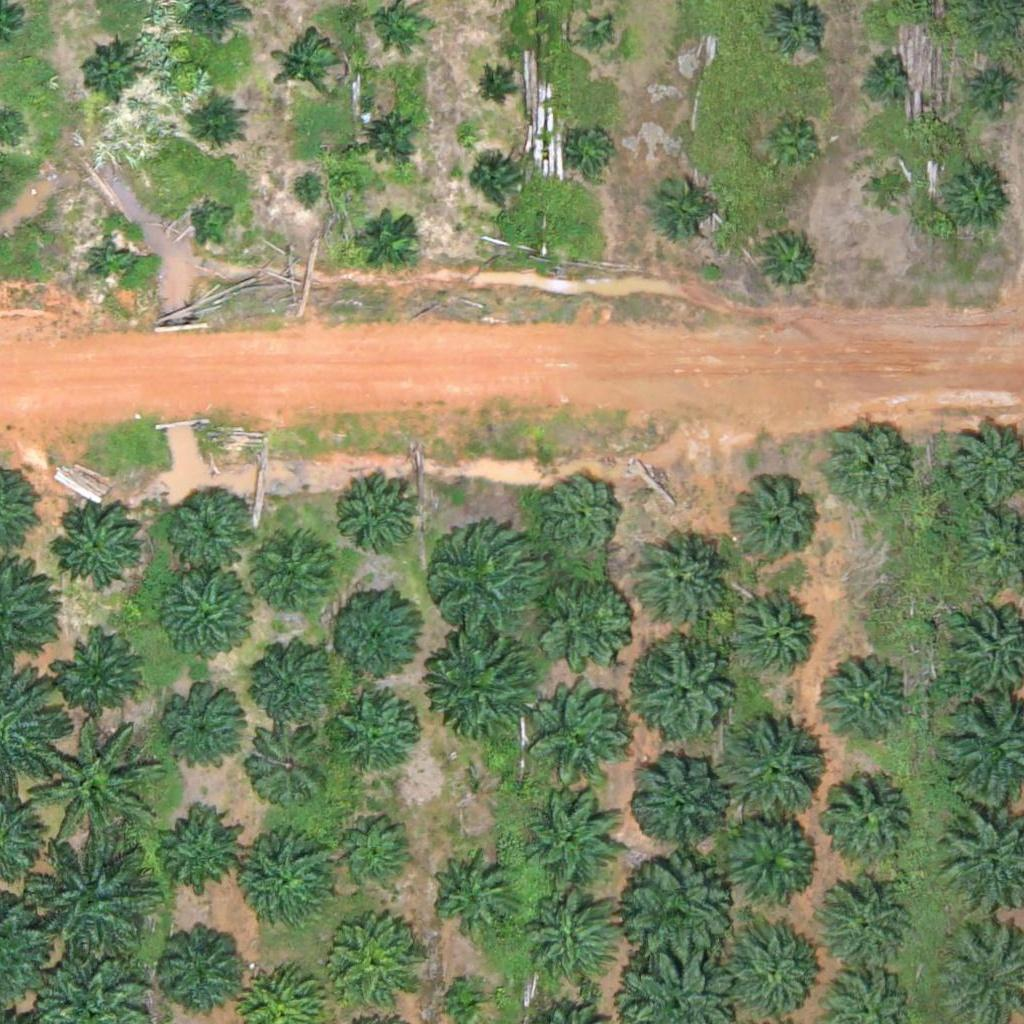Kelapa_Sawit: (31, 840, 156, 966), (28, 724, 153, 850), (425, 518, 550, 644), (713, 711, 825, 824), (630, 639, 742, 752), (623, 858, 735, 971), (809, 655, 909, 756), (814, 876, 914, 977), (724, 917, 824, 1018), (716, 809, 816, 910), (632, 531, 732, 632), (524, 894, 624, 995), (519, 788, 619, 889), (534, 685, 634, 786), (437, 636, 537, 737), (818, 770, 918, 870), (628, 751, 728, 851), (241, 836, 341, 936), (538, 563, 638, 663), (822, 420, 910, 508), (725, 591, 813, 679), (159, 575, 247, 663), (164, 690, 252, 778), (152, 802, 240, 890), (156, 919, 244, 1007), (328, 925, 416, 1013), (56, 628, 143, 717), (330, 591, 417, 680), (162, 483, 249, 571), (249, 637, 336, 725), (735, 480, 822, 568), (51, 499, 138, 587), (244, 718, 331, 806), (252, 529, 339, 617), (338, 472, 425, 560), (335, 699, 422, 787), (539, 476, 626, 564), (429, 849, 516, 937), (649, 170, 724, 246), (270, 30, 345, 106), (340, 815, 415, 890), (938, 160, 1013, 235), (360, 207, 423, 270), (187, 97, 250, 160), (359, 102, 422, 165), (79, 45, 142, 108), (759, 230, 822, 293), (759, 112, 822, 175), (972, 63, 1022, 114), (859, 49, 909, 100), (192, 195, 242, 246), (86, 237, 136, 288), (469, 157, 519, 207), (569, 124, 619, 174), (863, 165, 913, 215), (578, 19, 616, 57), (287, 173, 325, 211), (473, 70, 510, 108)
